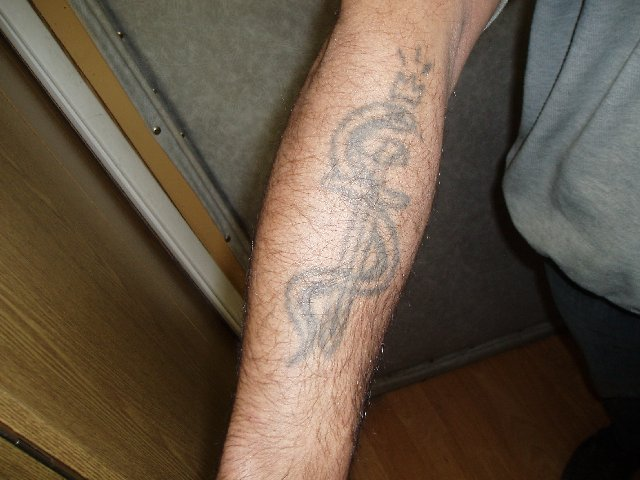tatu7_zmeya: (266, 38, 433, 419)
